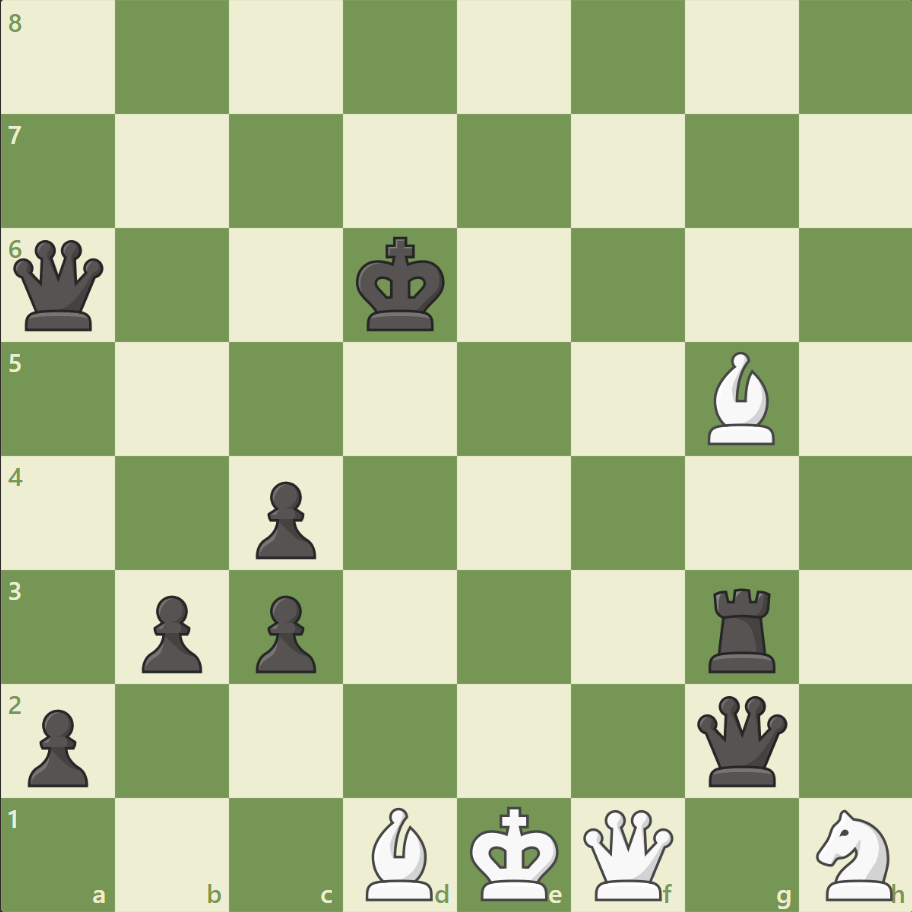B: (358, 801, 442, 904), (698, 347, 782, 449)
K: (465, 798, 565, 906)
N: (806, 802, 903, 904)
Q: (578, 804, 677, 903)
k: (351, 231, 451, 339)
p: (247, 473, 322, 564), (133, 586, 208, 677), (247, 586, 322, 677), (20, 700, 95, 791)
q: (10, 236, 109, 335), (691, 690, 790, 789)
r: (700, 579, 783, 676)
